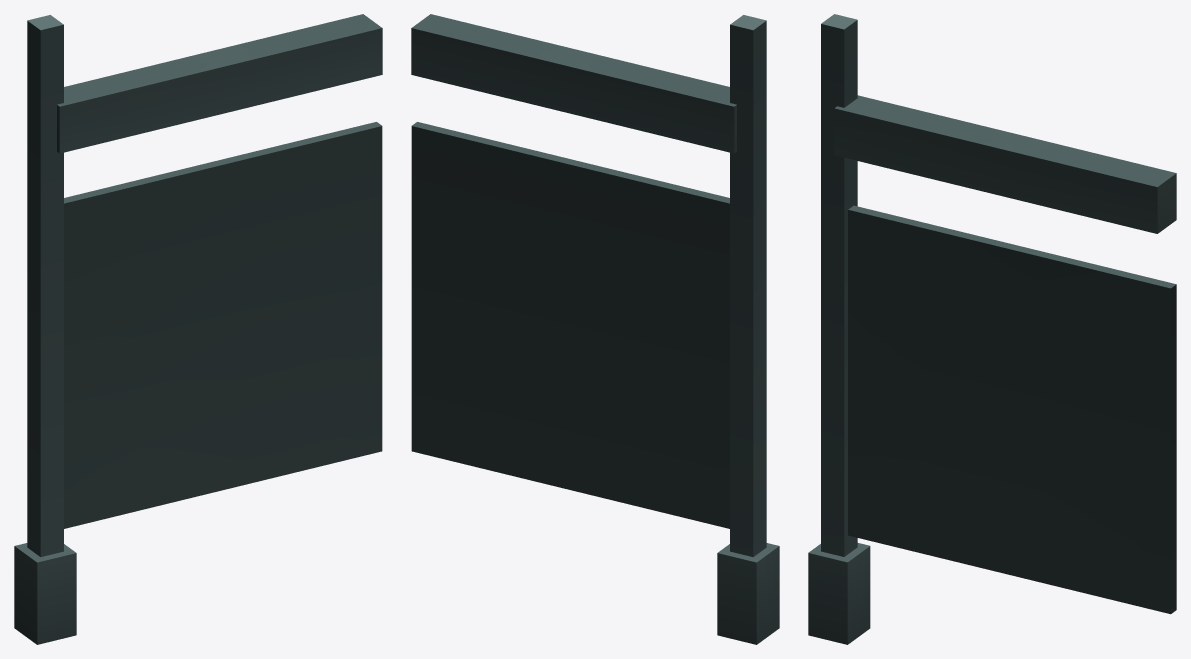
File: tc_metal_fence_2a.glb
The picture shows the model from 3 angles, left to right: view 1: azimuth 30°, elevation 25°; view 2: azimuth 150°, elevation 25°; view 3: azimuth 330°, elevation 25°; orthographic projection.
Parts seen in each view (by area): view 1: Metal_Fence_2A; view 2: Metal_Fence_2A; view 3: Metal_Fence_2A.
Boxes of the visible parts, x1,y1,x2,y2 form: Metal_Fence_2A: [14, 14, 382, 644]; Metal_Fence_2A: [411, 14, 779, 644]; Metal_Fence_2A: [808, 14, 1176, 644].
Bounding box in the file's own units: 2.13 × 3.5 × 0.2367.
1 material, 1 textured.
